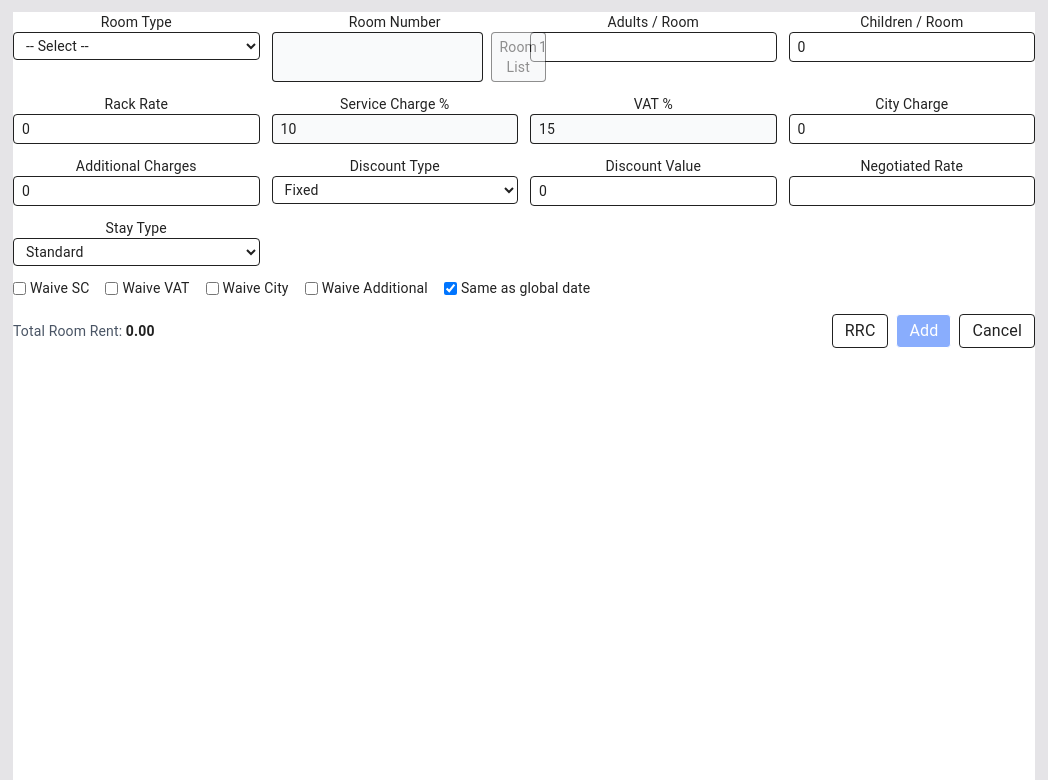
Test: RoomForm room type auto-fill › selecting a room type auto-populates Rack Rate / SC / VAT / City / Additional
Select "Deluxe" in the dropdown below "Room Type": x=136, y=46 x1=13 y1=32 x2=260 y2=60
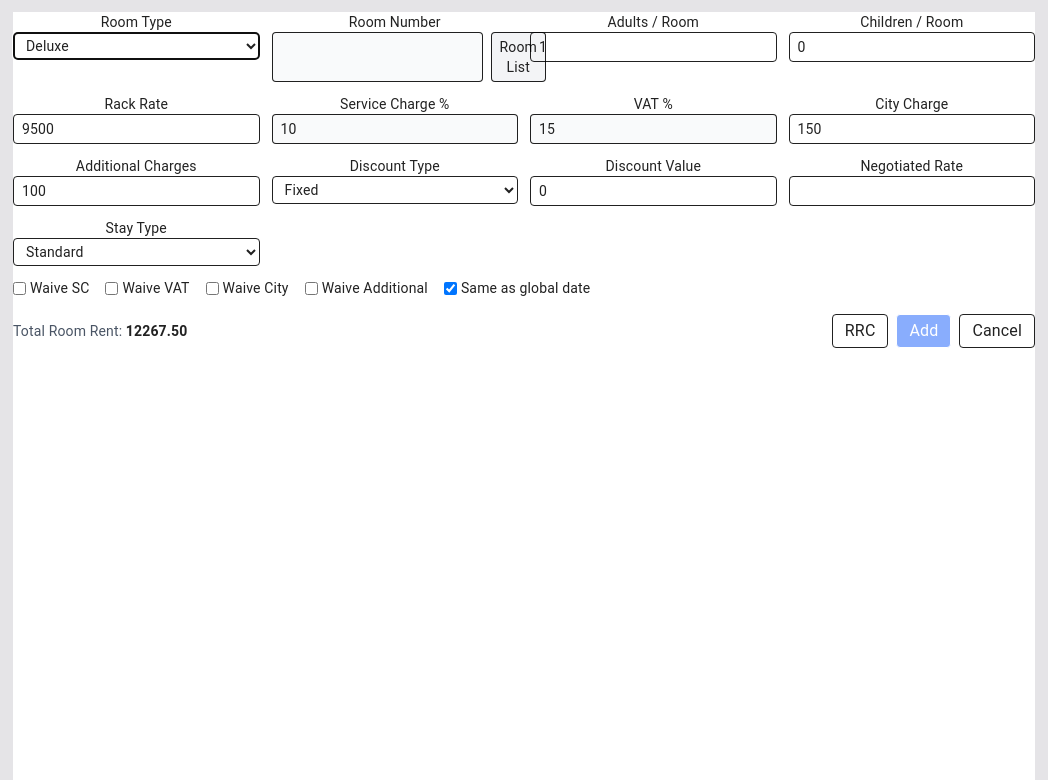
expect the number field below "Rack Rate" holds "9500": met, box x1=13 y1=114 x2=260 y2=144
expect the number field below "City Charge" holds "150": met, box x1=788 y1=114 x2=1035 y2=144
expect the number field below "Additional Charges" holds "100": met, box x1=13 y1=176 x2=260 y2=206
